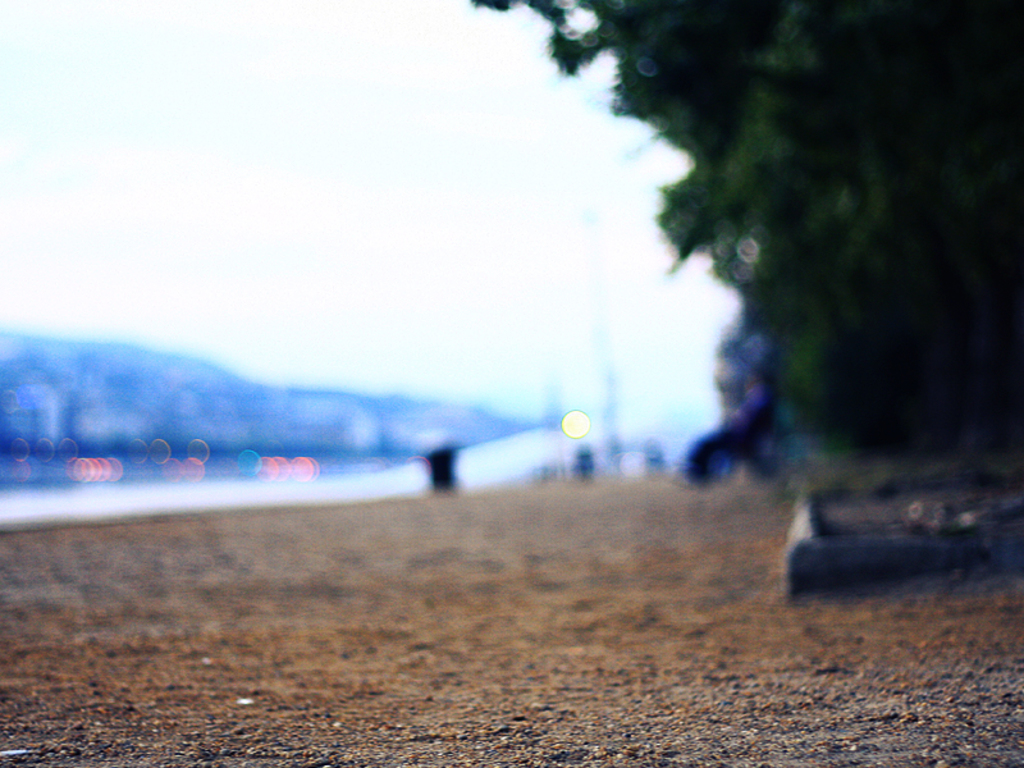Tree: (468, 0, 1022, 478)
